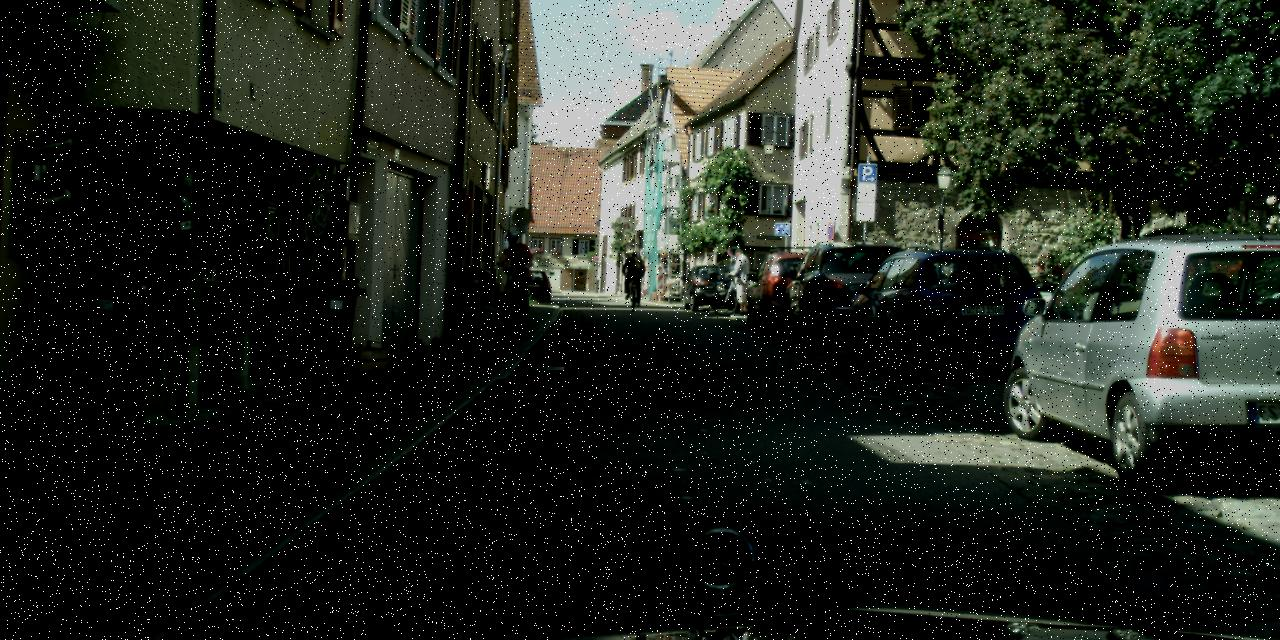ped: (498, 230, 533, 318), (726, 249, 753, 314), (624, 251, 644, 300)
